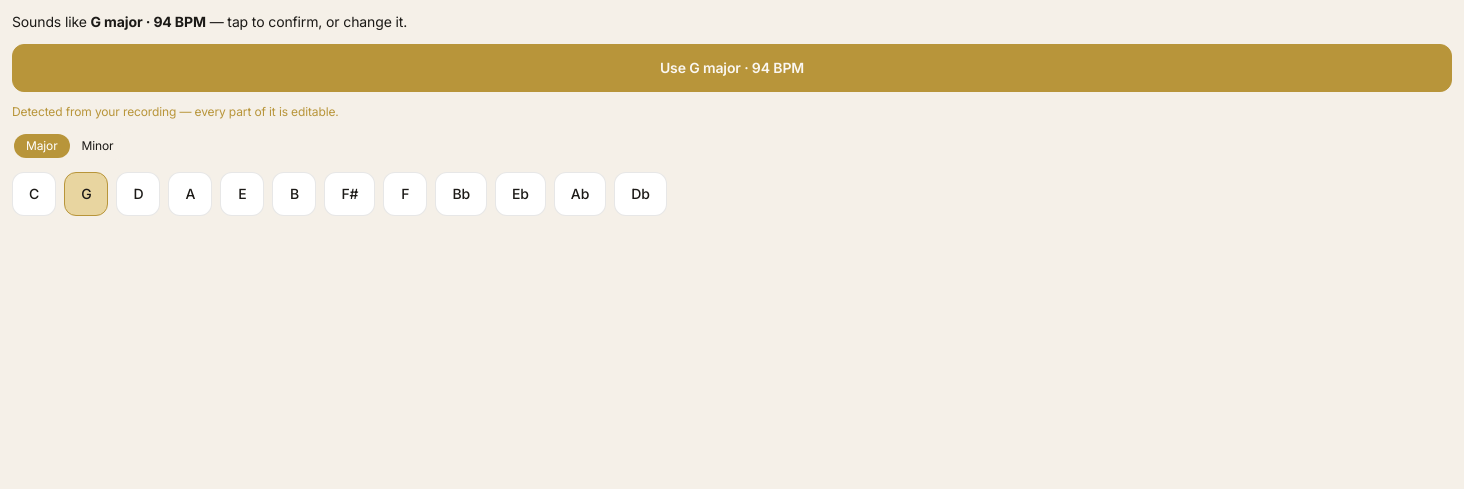
Test: ChordPicker — F13 confirm-or-change UX › turns the blank ask into a pre-filled confirm, and one tap persists everything
Check: the text "Sounds like G major · 94 BPM — tap to confirm, or change it." is shown, box [12,13,407,30]
Check: the text "Detected from your recording — every part of it is editable." is shown, box [12,104,339,119]
Click the button "Use G major · 94 BPM": (732, 68) [12,44,1452,92]
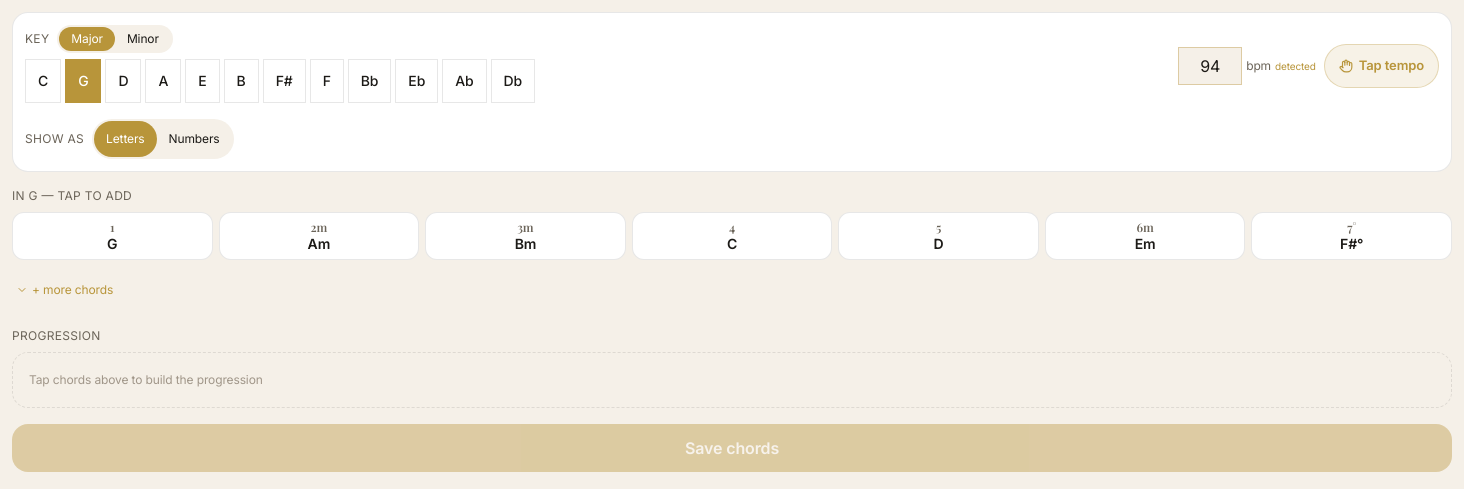
Check: the text "Progression" is shown, box [12,328,101,343]
